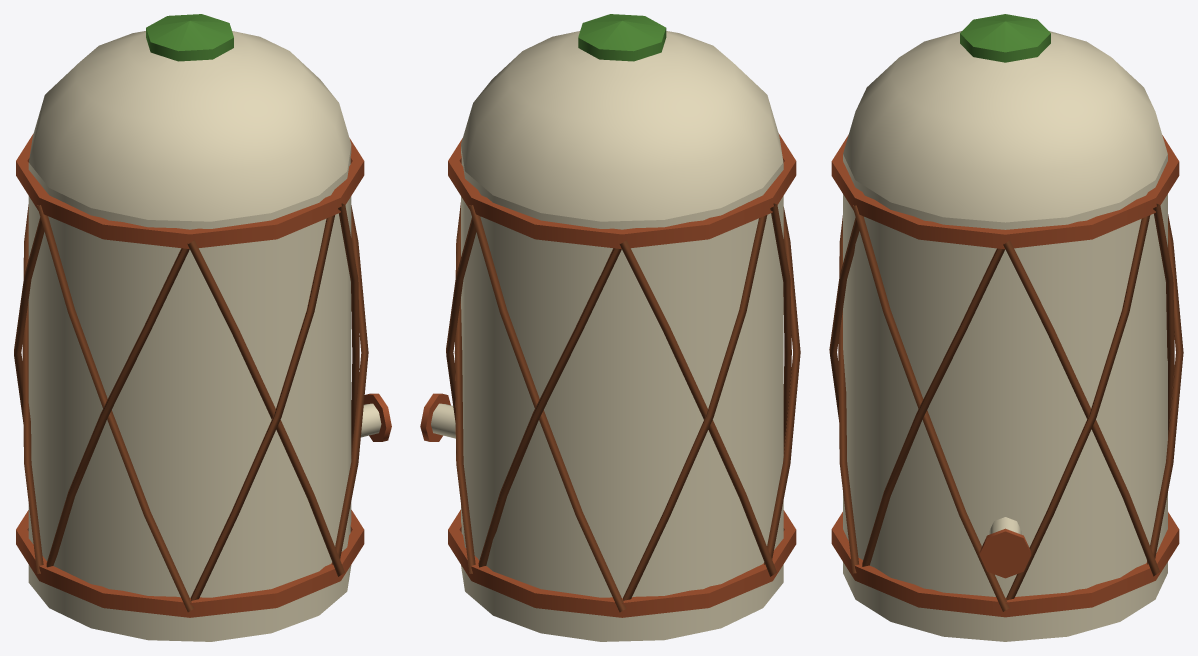
File: u500_water.obj
3 views of the same model, side by side, from view 1: azimuth 30°, elevation 25°; view 2: azimuth 150°, elevation 25°; view 3: azimuth 270°, elevation 25° (orthographic).
Parts seen in each view (by area): view 1: u500_water; view 2: u500_water; view 3: u500_water.
Boxes of the visible parts, x1,y1,x2,y2 form: u500_water: (14,14,391,641); u500_water: (420,14,800,641); u500_water: (829,14,1183,641).
Size of the model in its own units: 2.43 by 3.75 by 2.18.
